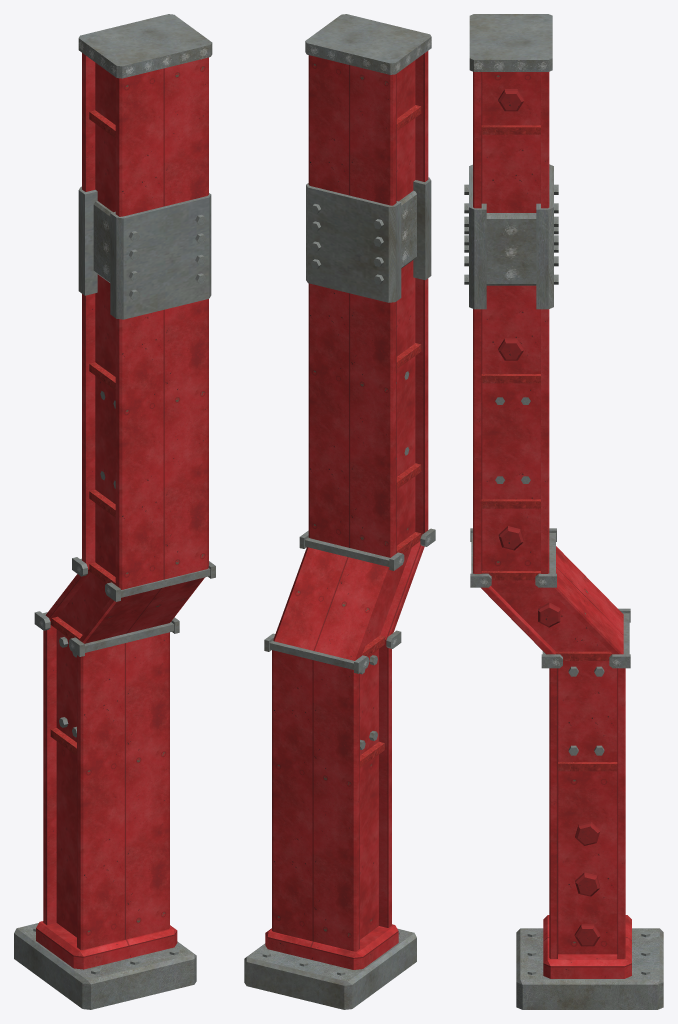
File: Ob_SidePillar_RC.fbx
The picture shows the model from 3 angles, left to right: view 1: azimuth 30°, elevation 25°; view 2: azimuth 150°, elevation 25°; view 3: azimuth 270°, elevation 25°; orthographic projection. The views are drawn at different scales.
Parts seen in each view (by area): view 1: Ob_SidePillar_RC; view 2: Ob_SidePillar_RC; view 3: Ob_SidePillar_RC.
Boxes of the visible parts, bbox=[...] form: Ob_SidePillar_RC: bbox=[14, 14, 215, 1009]; Ob_SidePillar_RC: bbox=[244, 14, 435, 1009]; Ob_SidePillar_RC: bbox=[464, 14, 663, 1009].
Size of the model in its own units: 255 by 2049 by 392.
